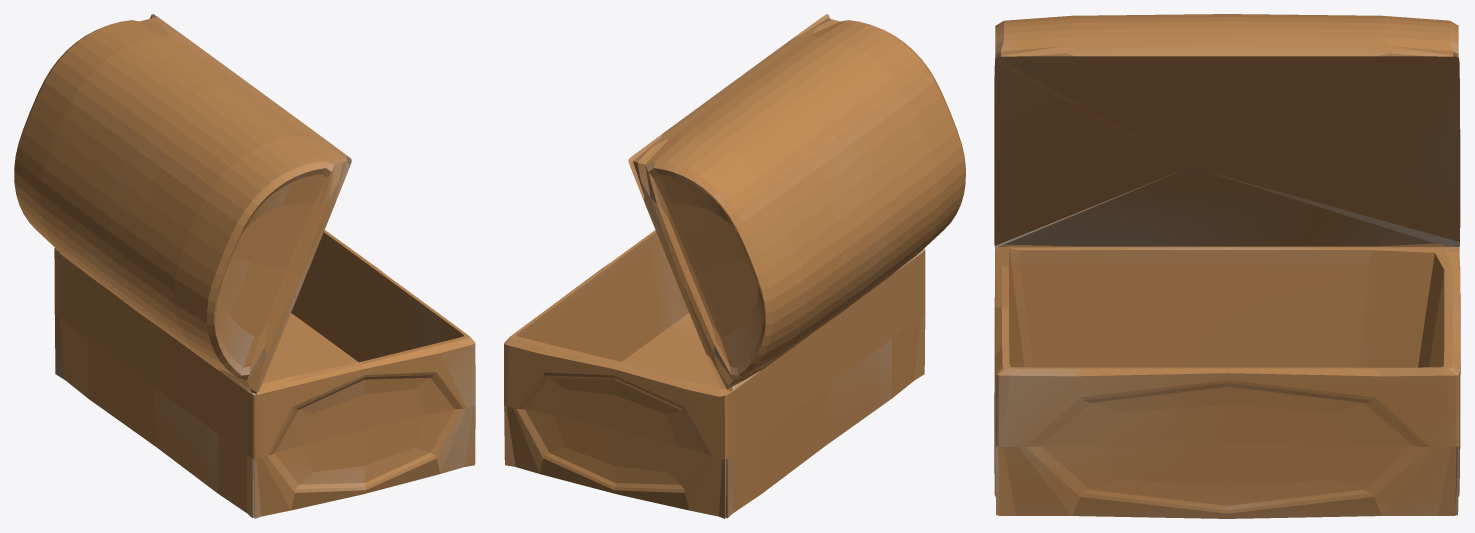
The model's file is chest.fbx.
3 views of the same model, side by side, from view 1: azimuth 30°, elevation 25°; view 2: azimuth 150°, elevation 25°; view 3: azimuth 270°, elevation 25° (orthographic). The views are drawn at different scales.
Parts seen in each view (by area): view 1: Boat; view 2: Boat; view 3: Boat.
Boxes of the visible parts, left/top/right/bottom form: Boat: left=14, top=14, right=475, bottom=518; Boat: left=504, top=14, right=965, bottom=518; Boat: left=994, top=14, right=1460, bottom=518.
Size of the model in its own units: 50.14 by 61.28 by 64.27.
